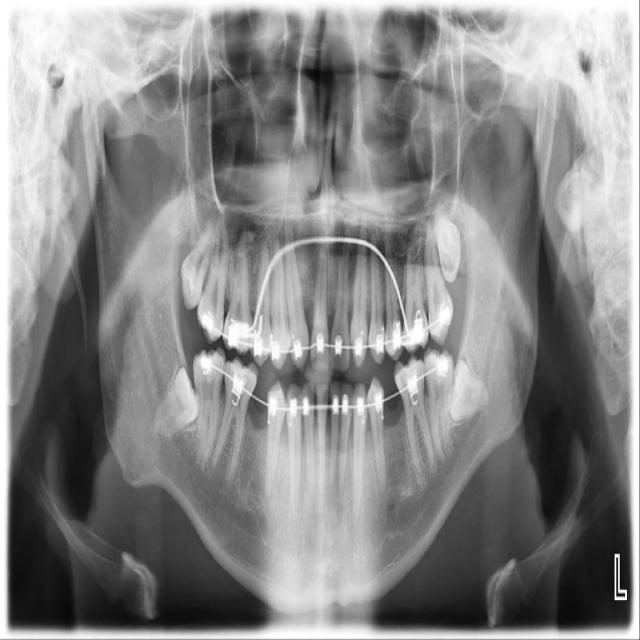impacted tooth: (149, 366, 194, 436), (182, 220, 216, 308), (446, 358, 491, 422), (426, 203, 460, 281)
